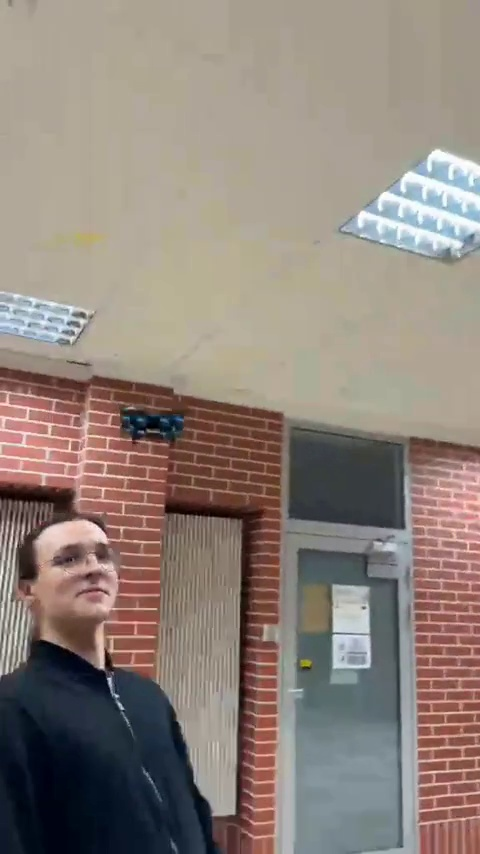drone: (120, 408, 192, 437)
no vest: (0, 517, 222, 850)
